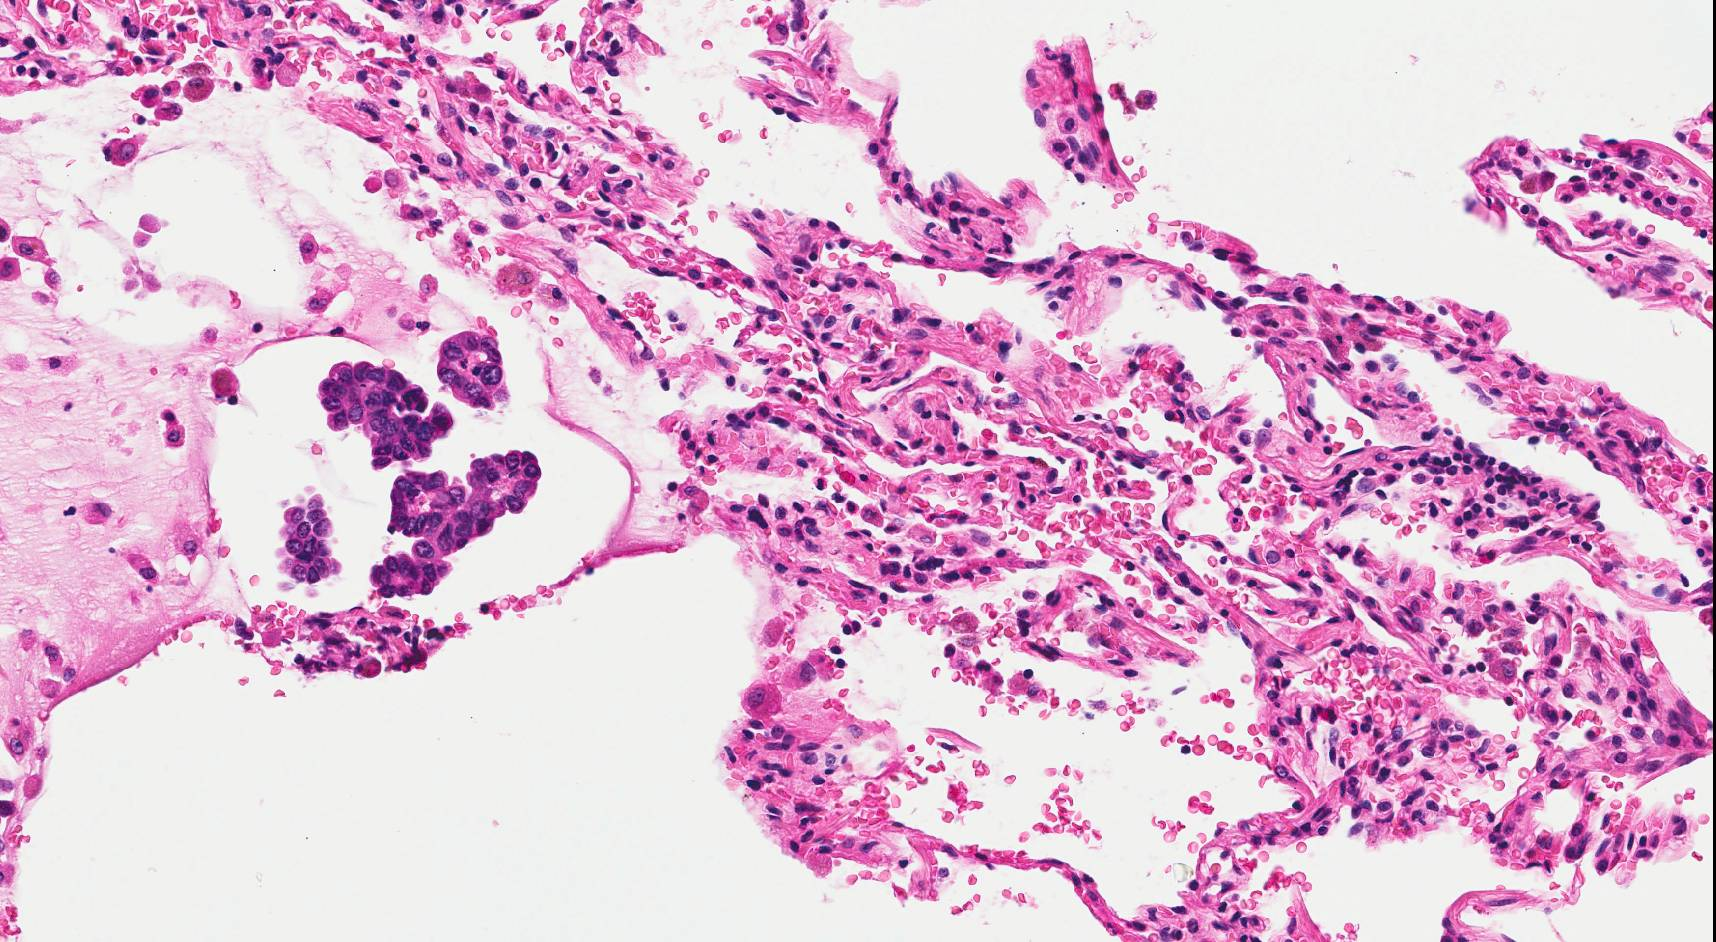stas: (367, 449, 545, 603), (318, 359, 458, 477), (275, 482, 344, 591), (434, 328, 514, 415)
